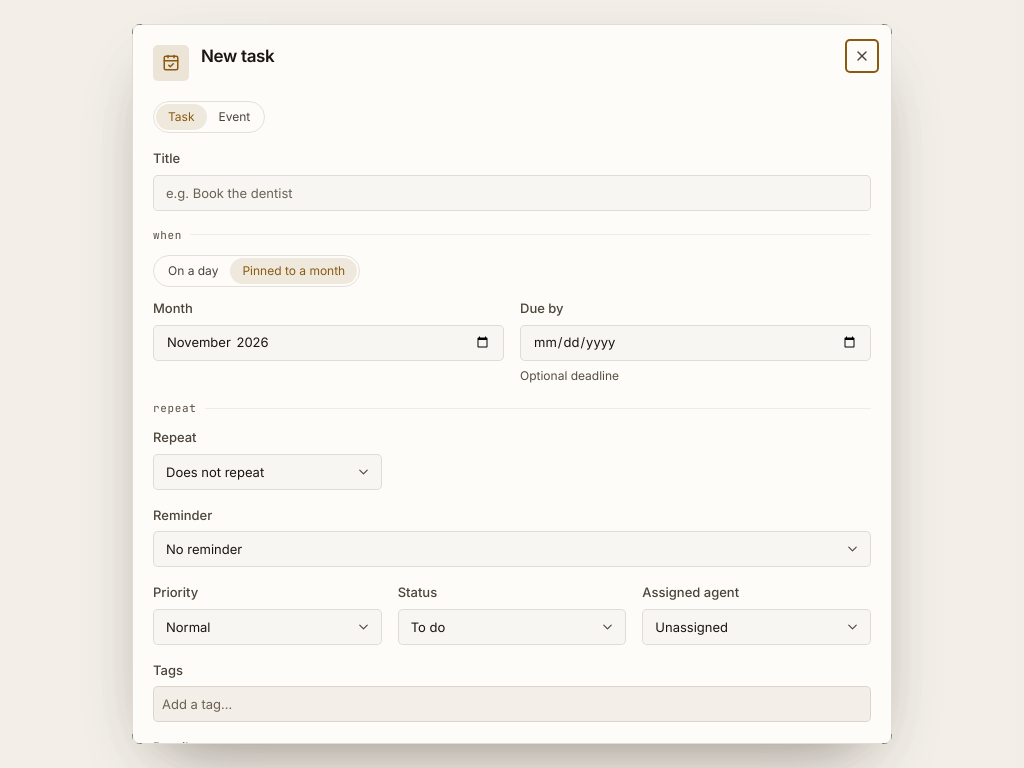
Test: TaskFormDialog › asks for a day unless the task is pinned
The width and height of the screenshot is (1024, 768).
Type "Plan" into the field labelled "Title" at (512, 192), box [153,174,871,210]
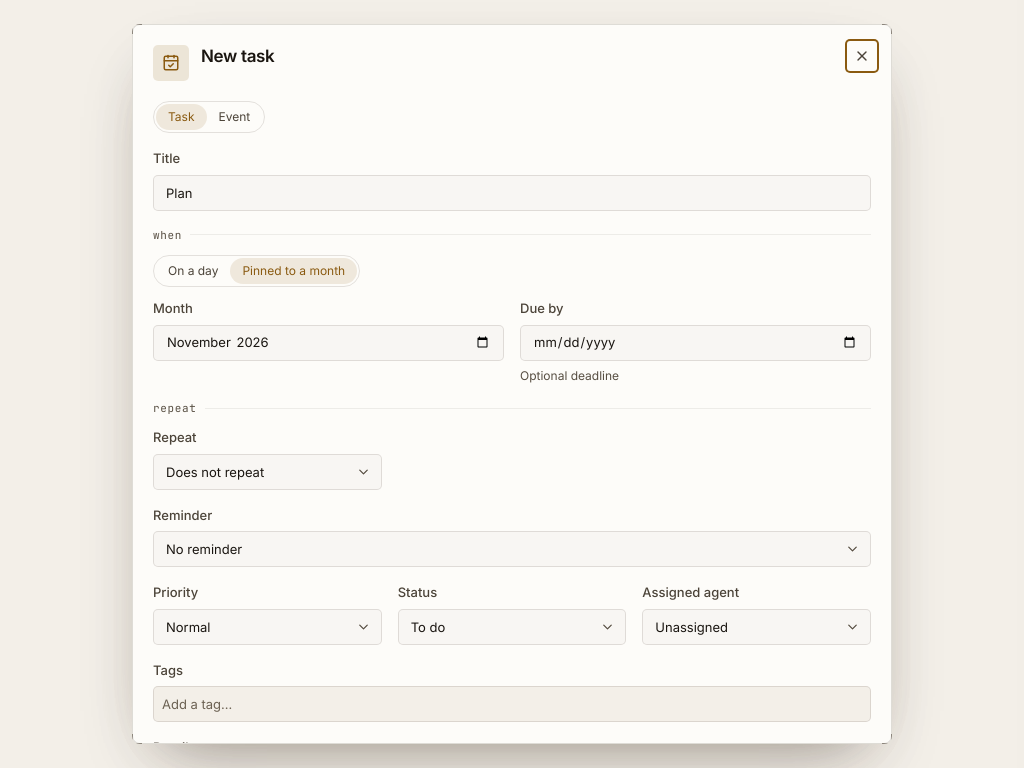
Click the radio button labelled "On a day" at (193, 270), box [168,263,218,278]
(page scrolled)
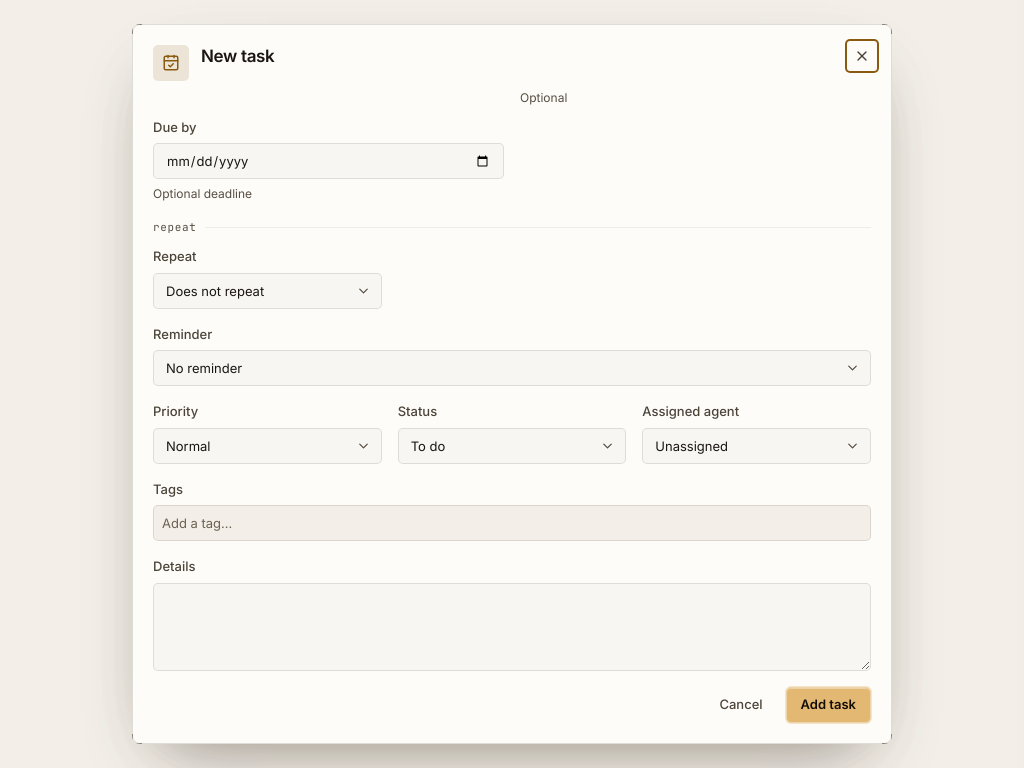
Click the button "Add task" at (828, 705), box [786,687,871,723]
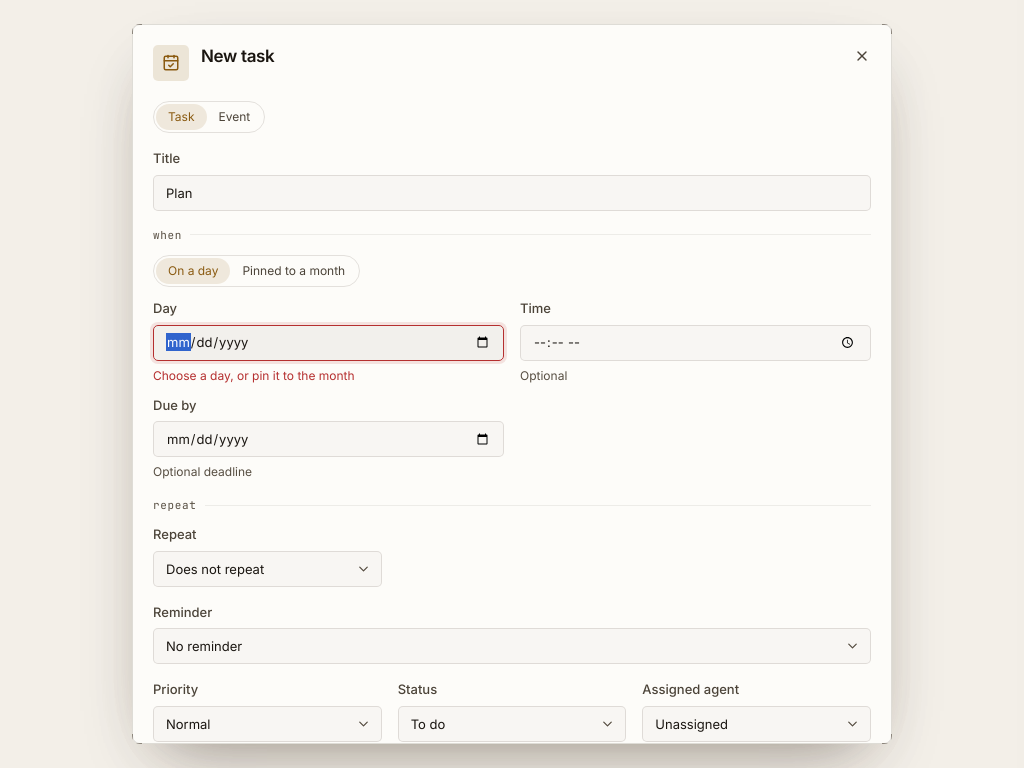
Expected: the text "Choose a day, or pin it to the month" is shown, [153,368,355,382]
